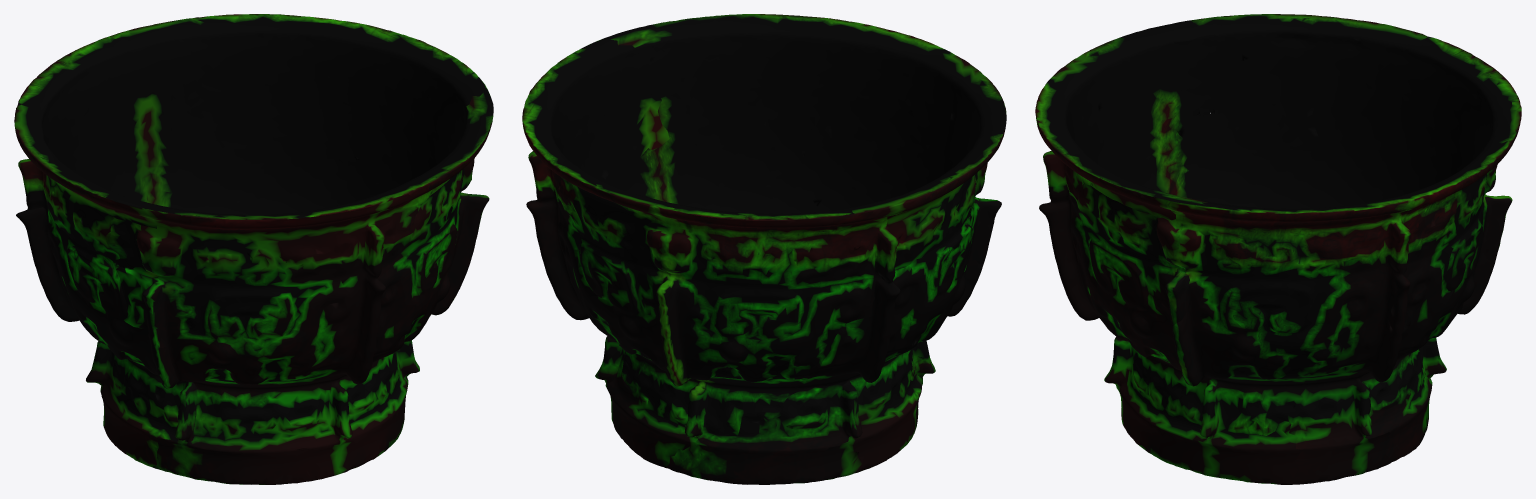
3 views of the same model, side by side, from view 1: azimuth 30°, elevation 25°; view 2: azimuth 150°, elevation 25°; view 3: azimuth 270°, elevation 25° (orthographic).
Visible parts, largest first — view 1: shang_gui; view 2: shang_gui; view 3: shang_gui.
Part boxes in pixels (x1,y1,x2,y2): shang_gui: (14, 14, 493, 484); shang_gui: (522, 14, 1006, 484); shang_gui: (1035, 14, 1521, 484).
Bounding box in the file's own units: 0.2825 × 0.2017 × 0.2837.
1 material, 1 textured.
